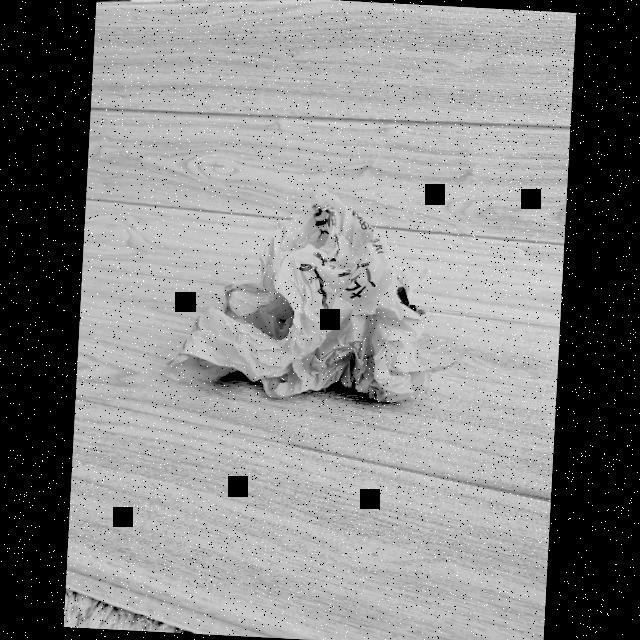plastic_bag: (140, 164, 470, 436)
